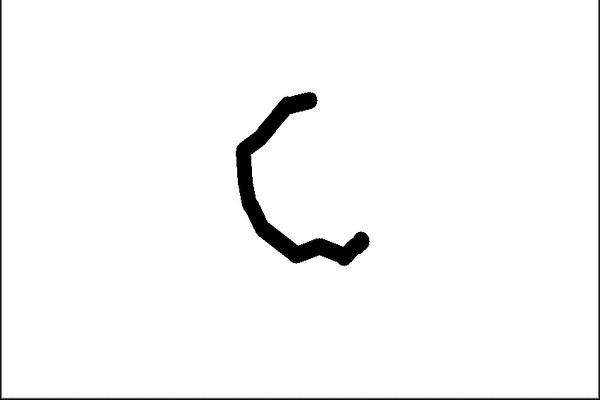C: (230, 80, 375, 269)
